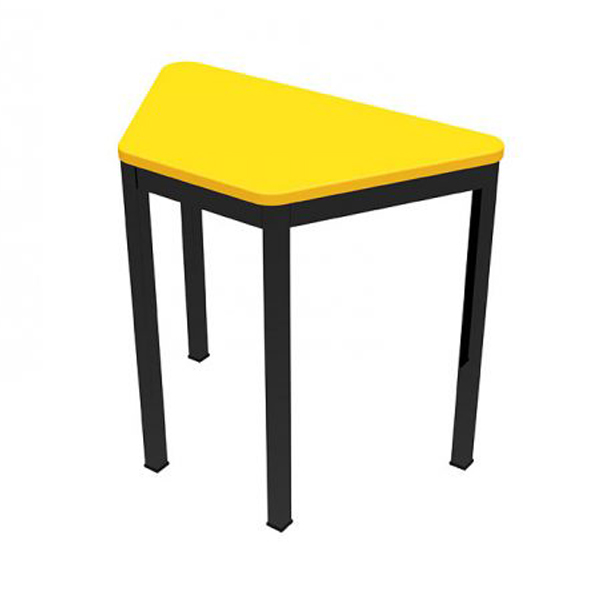m01: (119, 61, 505, 533)
